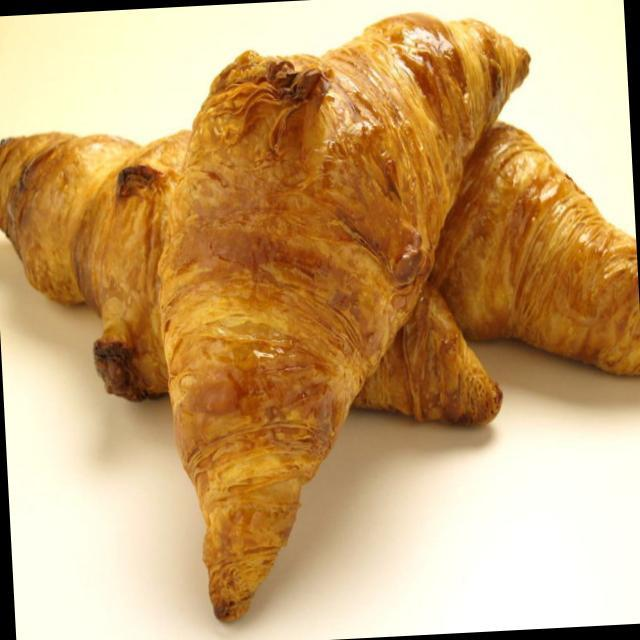Croissant: (130, 0, 563, 633)
